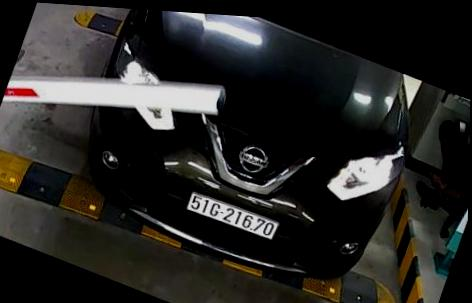License_Plate: (187, 186, 288, 248)
